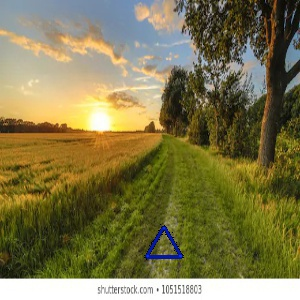triangle: (144, 222, 187, 261)
